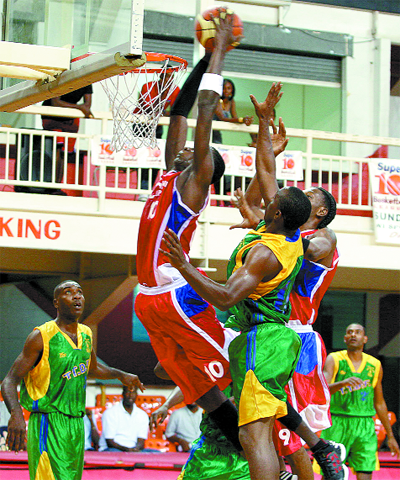ball: (192, 6, 247, 54)
basket: (100, 50, 190, 152)
player: (173, 85, 317, 480), (130, 30, 253, 459), (2, 281, 138, 480), (278, 184, 345, 480), (323, 324, 397, 480)
